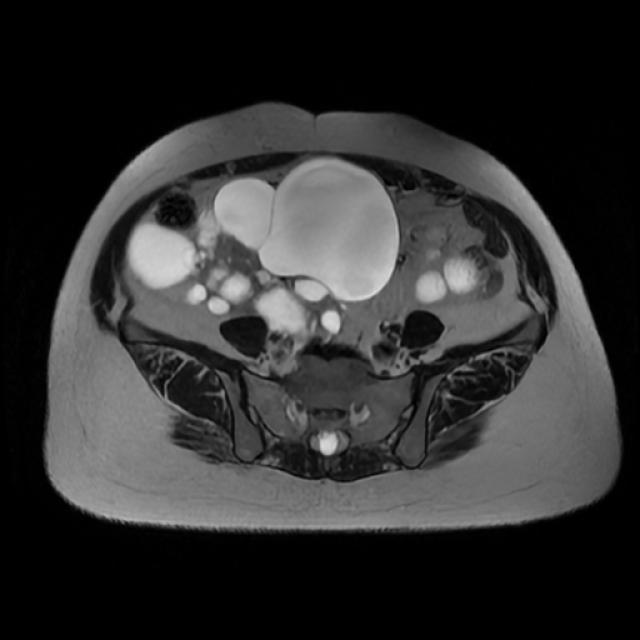sag: (130, 159, 401, 334)
sol: (417, 228, 489, 303)
